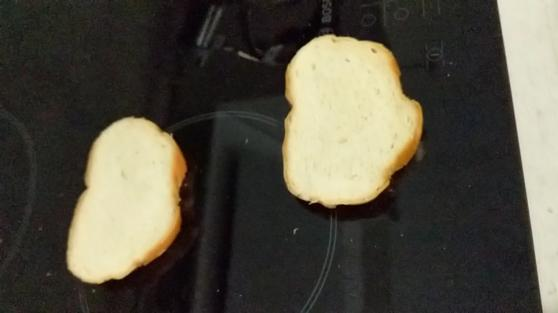white_bread: (284, 30, 427, 208), (64, 109, 189, 285)
